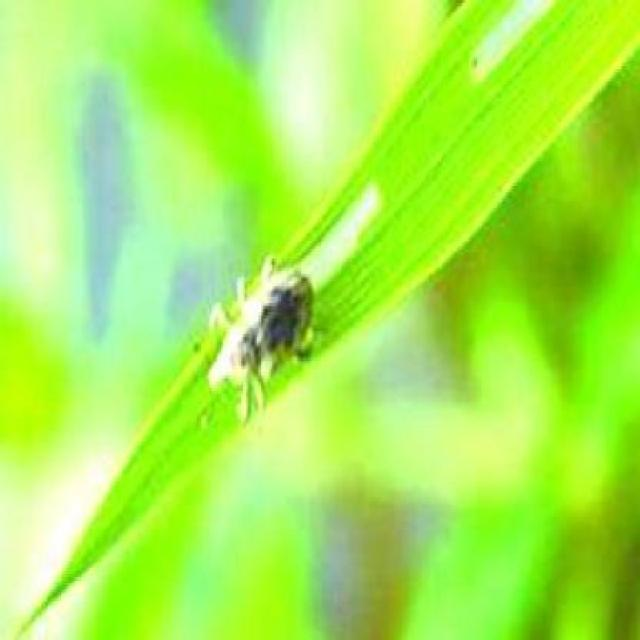rice-bug: (207, 242, 327, 428)
